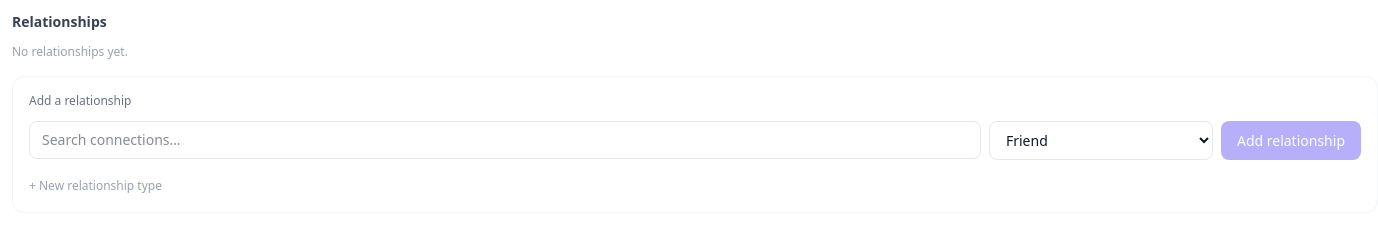
Scenario: ConnectionSearch — selection › clicking a suggestion fills the input and hides the list
Type "jor" into the field labelled "Search connections…" at (505, 140), box [29,121,981,159]
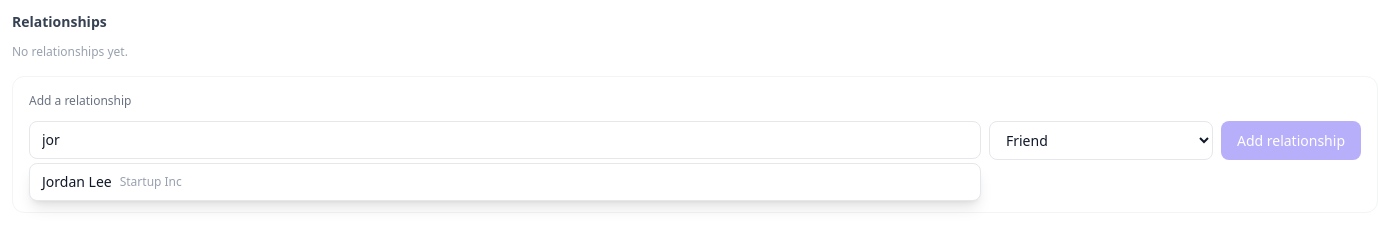
Click the option "Jordan Lee Startup Inc" at (112, 182), box [42,172,182,191]
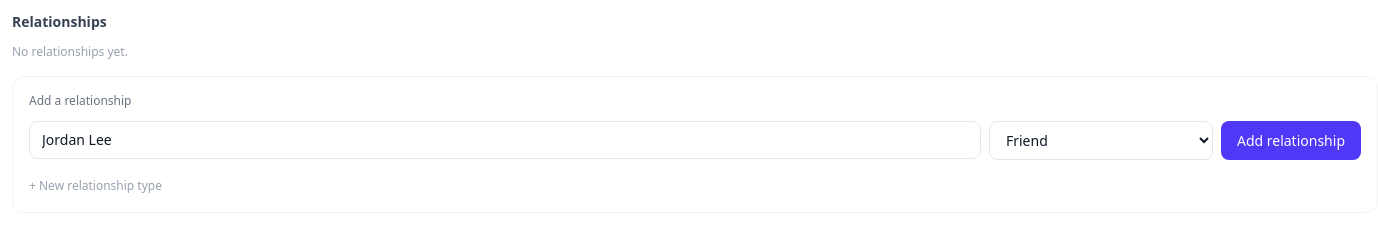
Result: the field named "Search connections" holds "Jordan Lee" at [29,121,981,159]
Result: the list is gone
